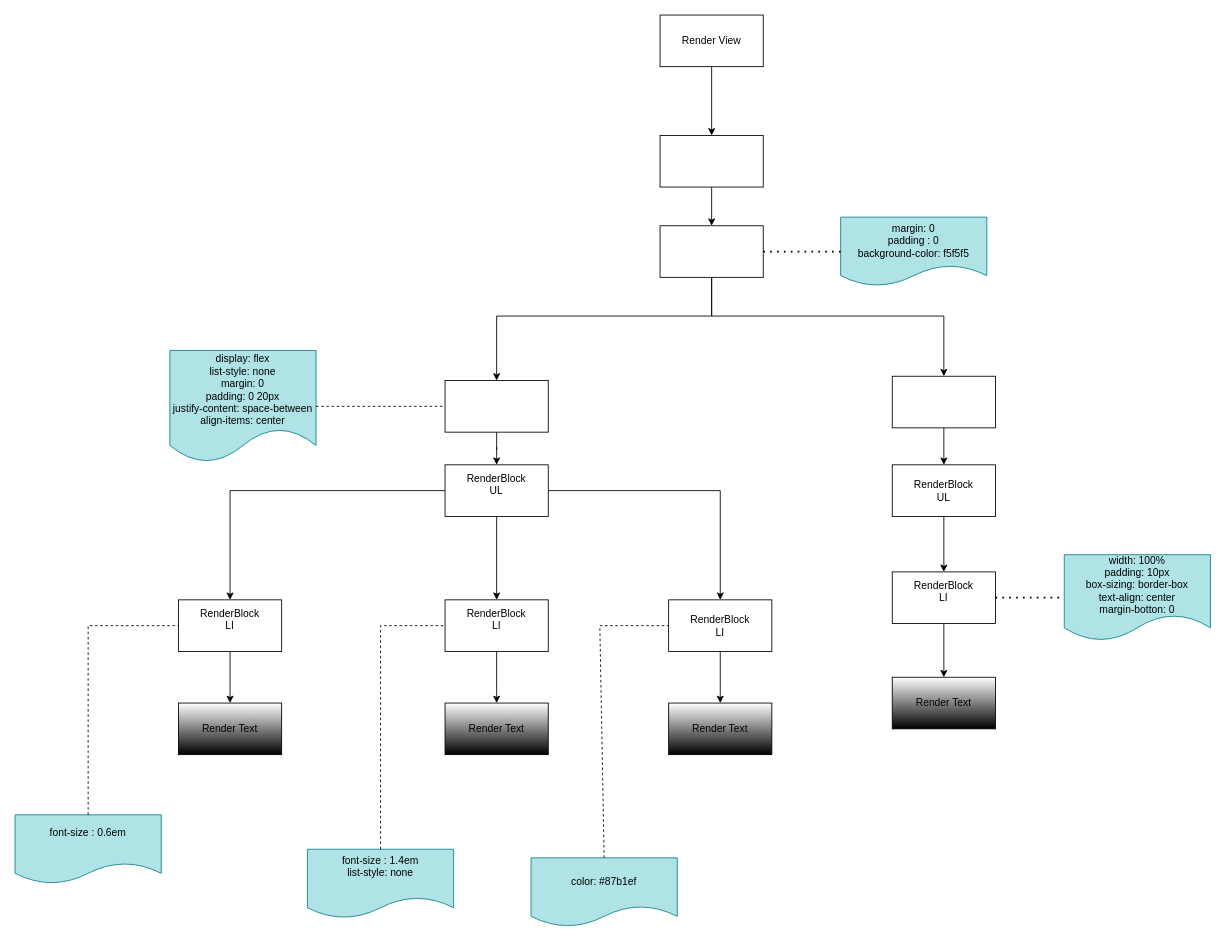
Image size: 1226x942. Some labels were removed from this diagram. The shapes that lost their labels are listed below. From the top down, each one's centre as x and y in pixels, then its label:
At (711,161): "RenderBlock HMTL".
At (711,251): "RenderBlock BODY".
At (496,406): "RenderBlock NAV".
At (943,401): "RenderBlock SECTION".
